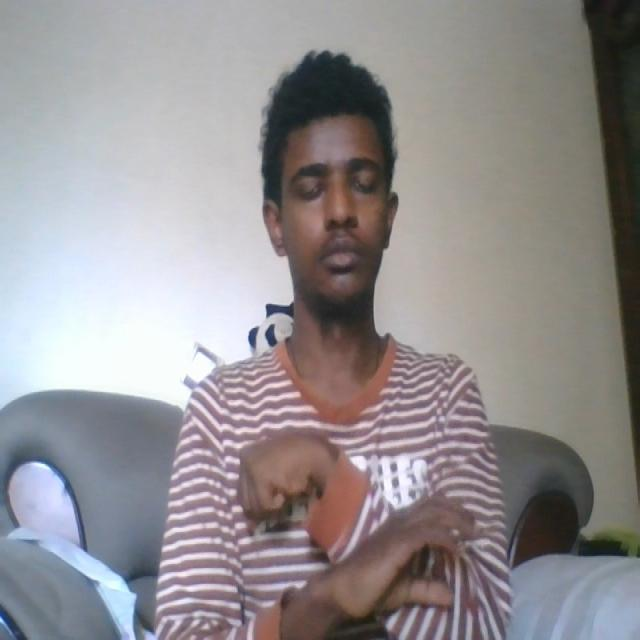hager: (234, 430, 480, 640)
